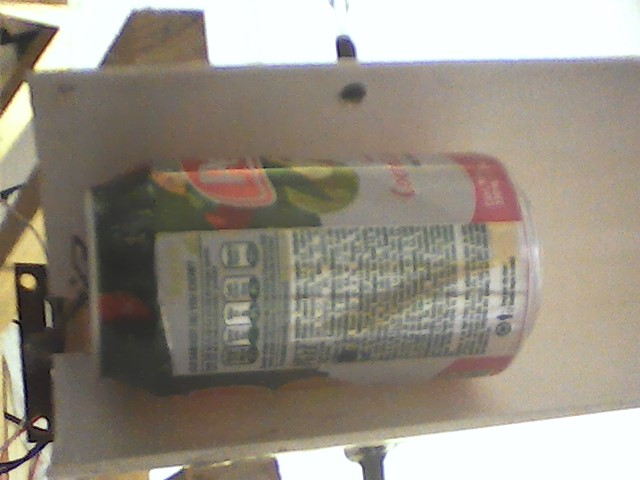lata: (78, 148, 548, 402)
